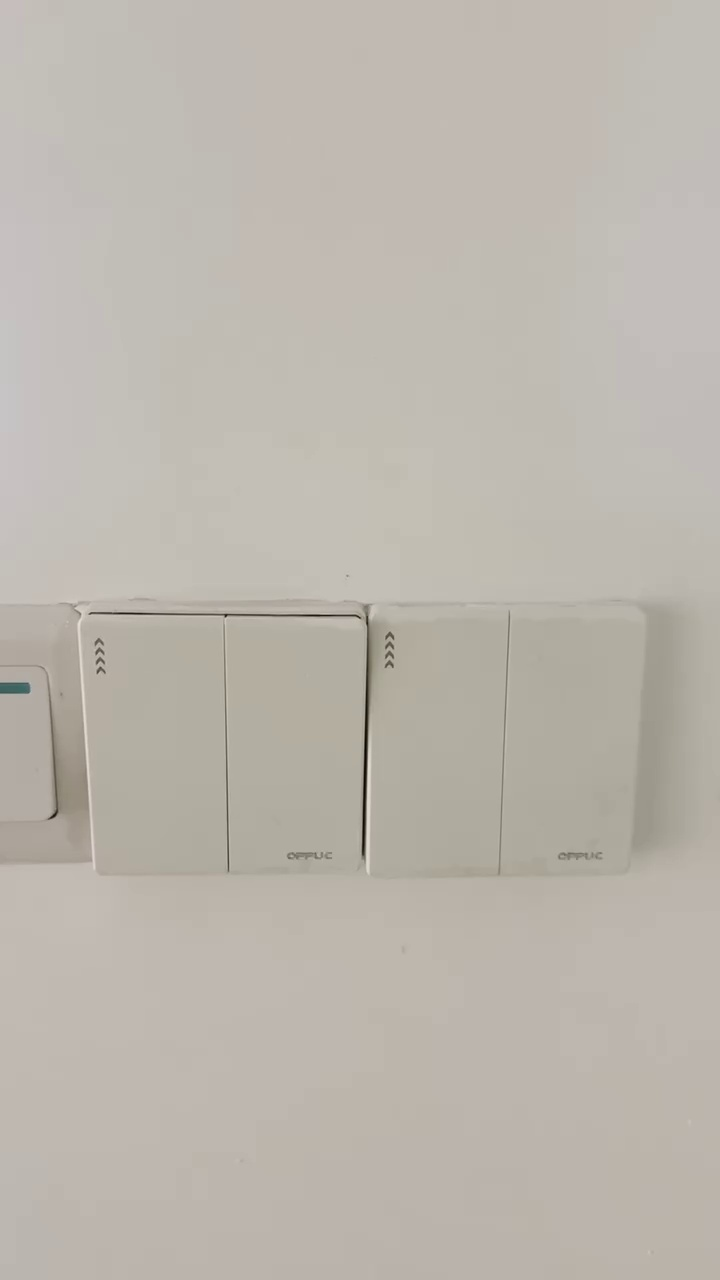button1: (502, 615, 640, 876), (89, 619, 226, 874), (369, 620, 505, 871), (228, 623, 360, 869)
